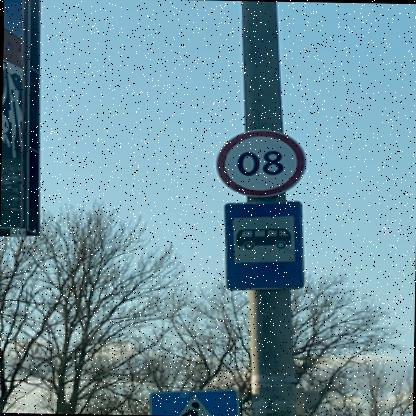crosswalk: (147, 388, 243, 416)
speedlimit: (218, 127, 310, 195)
